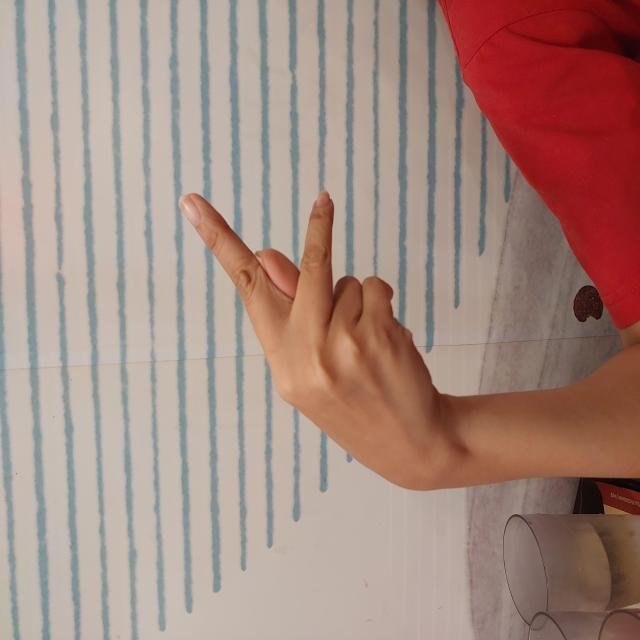K: (158, 178, 456, 446)
